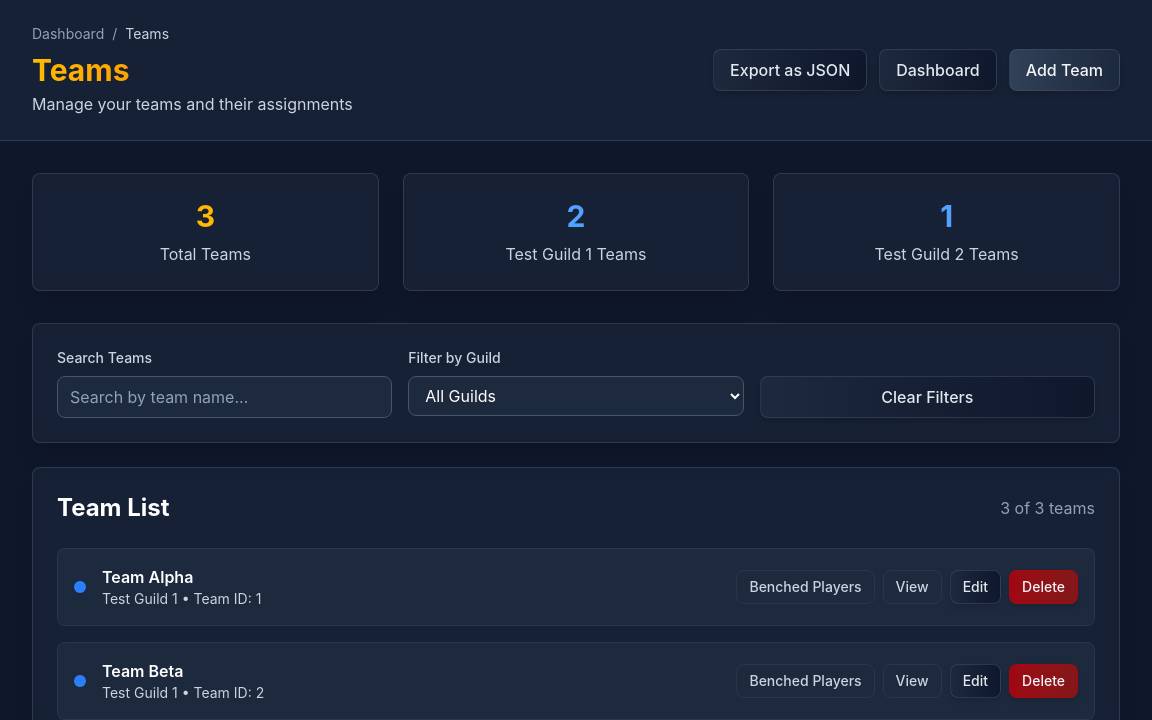
Test: Teams › Add Team › opens add form when Add Team button is clicked
The width and height of the screenshot is (1152, 720).
Click the button "Add Team" at (1064, 70), box [1009, 49, 1120, 91]
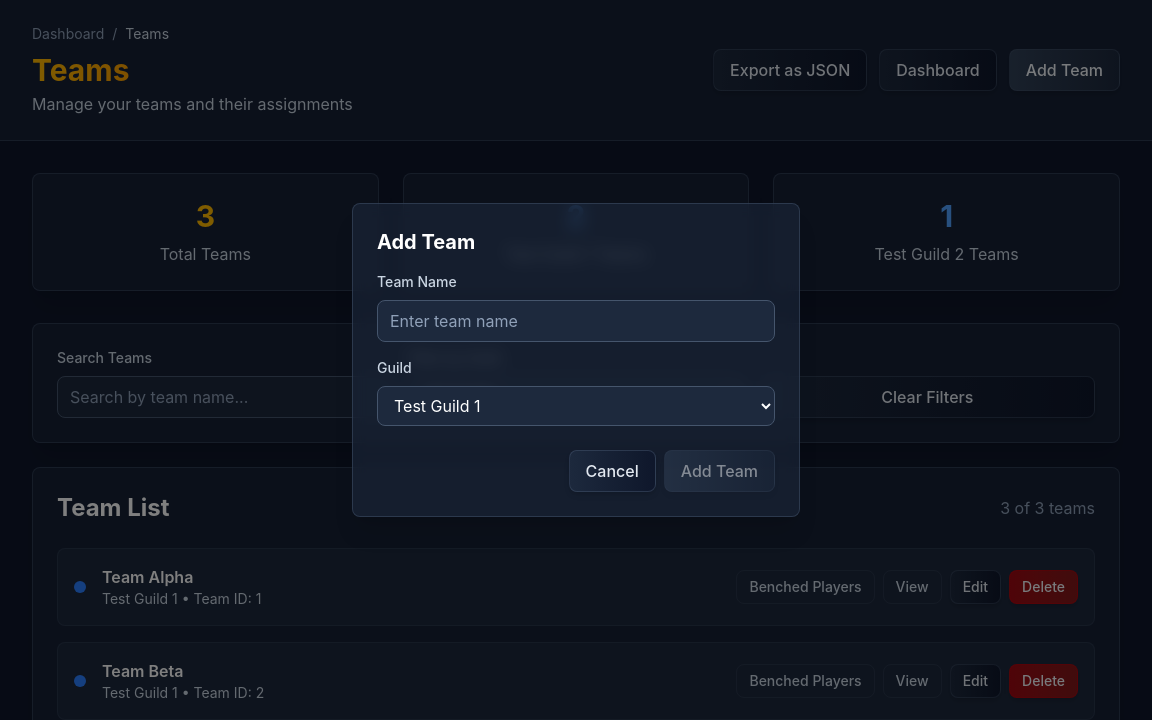
Check: the element with test id "team-form-modal" is shown
Check: the heading "Add Team" is shown, box [377, 230, 475, 254]
